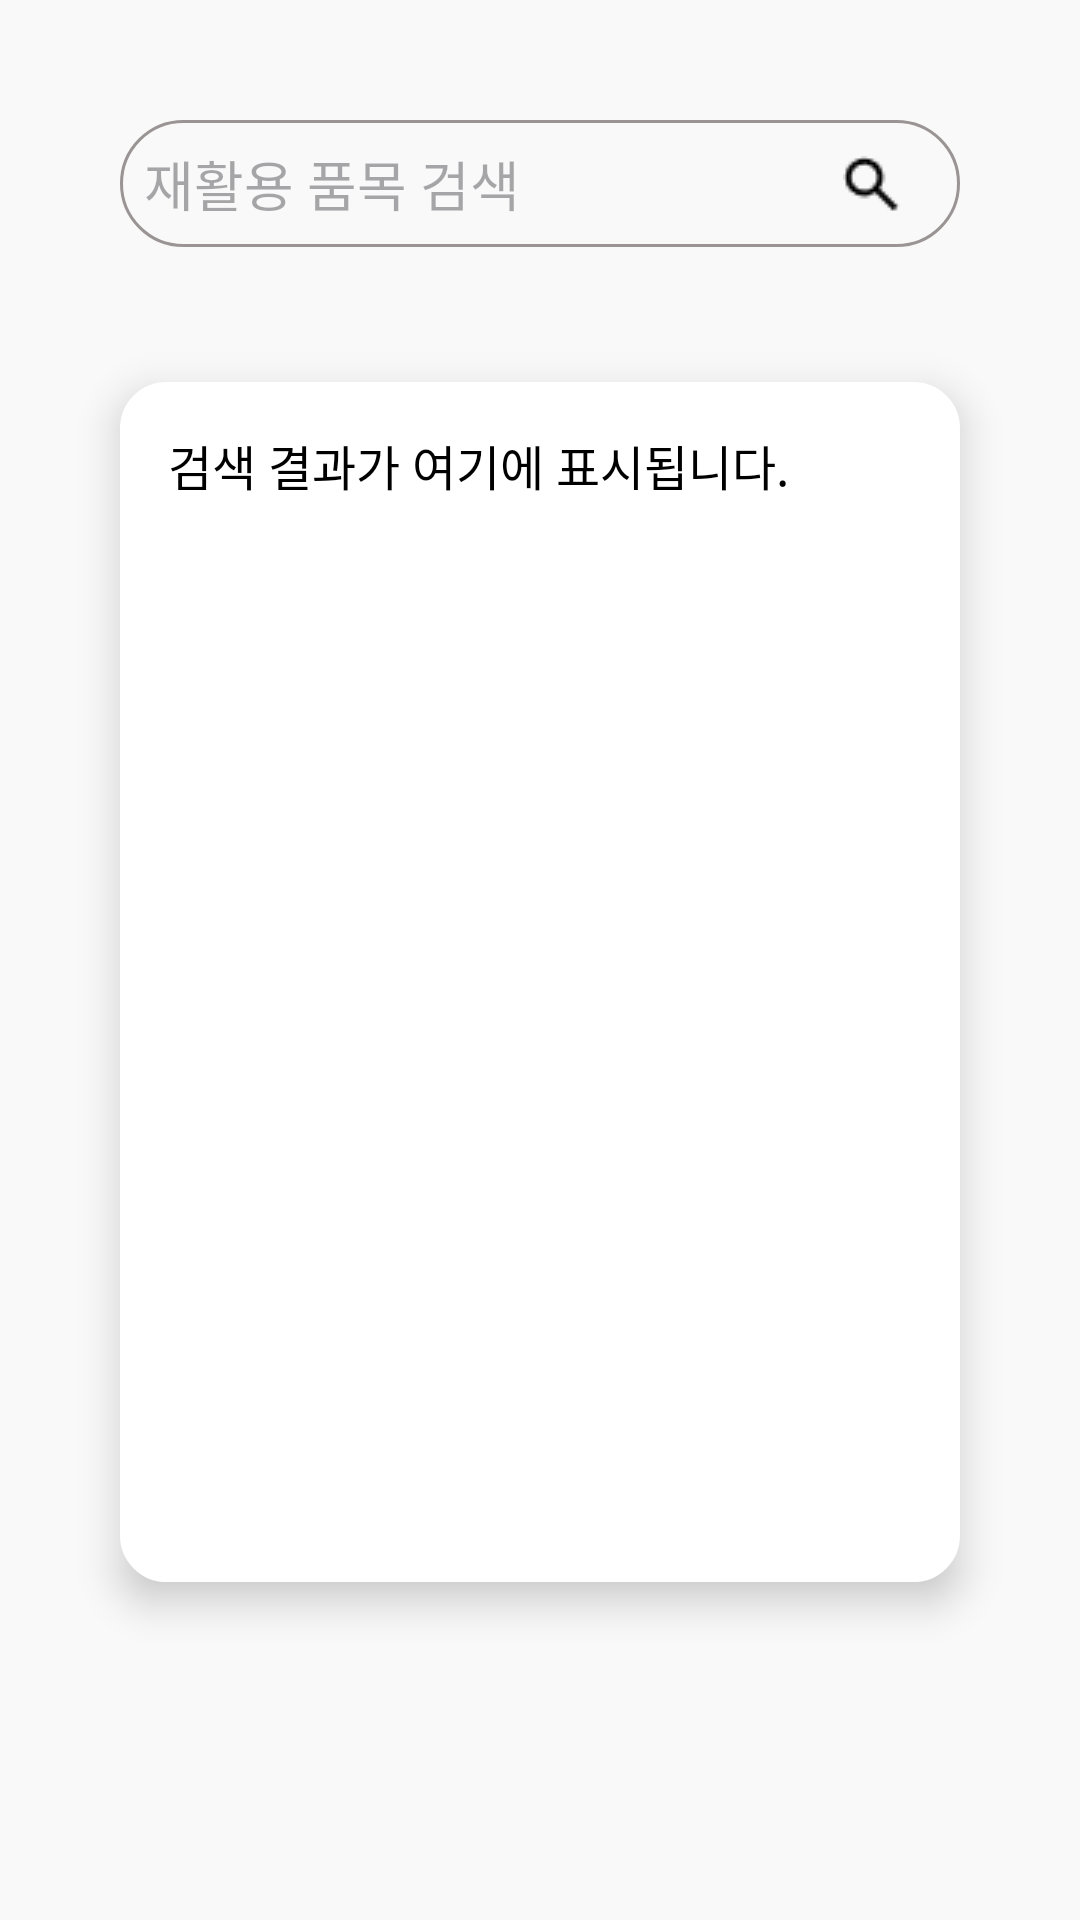

Point at icon controls on the screen. Image size 1080 x 1920, points as [x,y].
search: [870,183]
